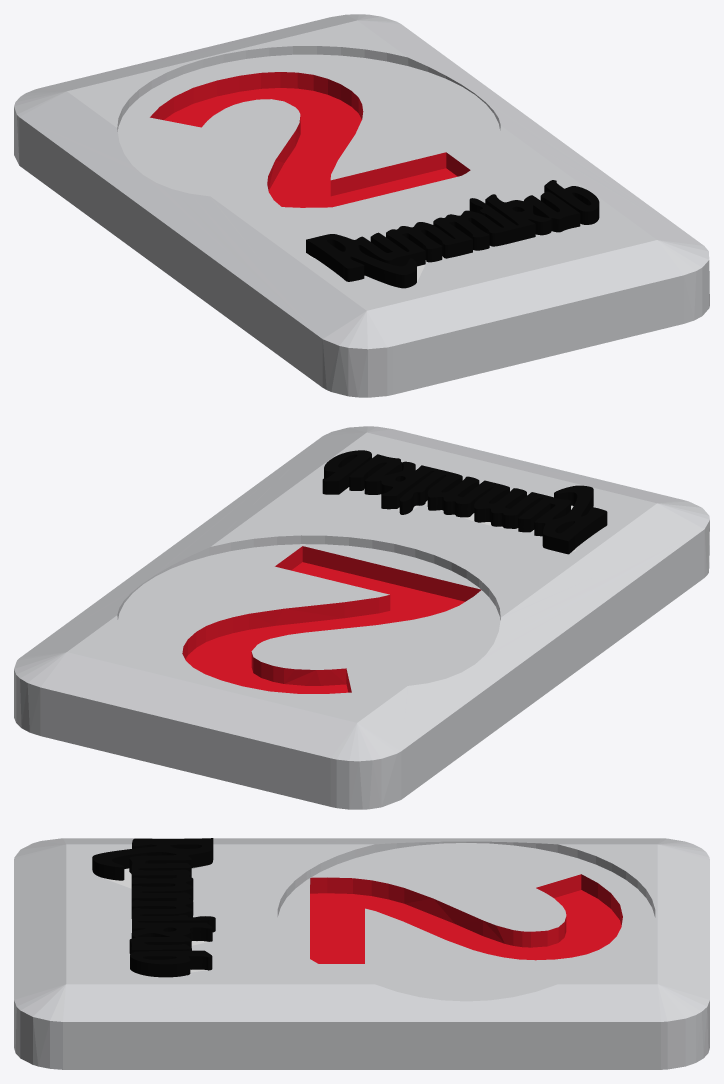
3 renders of one model, top to bottom at view 1: azimuth 30°, elevation 25°; view 2: azimuth 150°, elevation 25°; view 3: azimuth 270°, elevation 25°, orthographic.
Visible parts, largest first — view 1: Rummikub 2 Fixed; view 2: Rummikub 2 Fixed; view 3: Rummikub 2 Fixed.
Boxes of the visible parts, x1,y1,x2,y2 form: Rummikub 2 Fixed: (14,14,709,397); Rummikub 2 Fixed: (14,426,709,809); Rummikub 2 Fixed: (14,838,709,1069).
Size of the model in its own units: 2499 by 487 by 4000.
